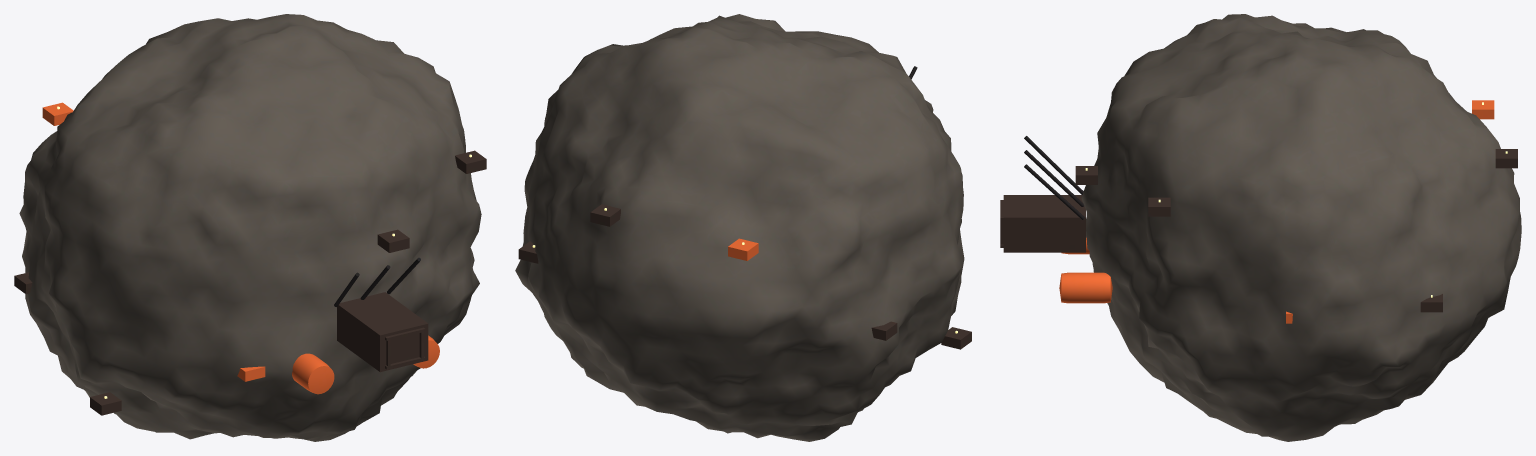
Rendered from game-shackle.glb.
The picture shows the model from 3 angles, left to right: view 1: azimuth 30°, elevation 25°; view 2: azimuth 150°, elevation 25°; view 3: azimuth 270°, elevation 25°; orthographic projection. The views are drawn at different scales.
Parts seen in each view (by area): view 1: shackle; view 2: shackle; view 3: shackle.
Part boxes in pixels (left/top/right/bottom): shackle: left=14, top=14, right=486, bottom=441; shackle: left=515, top=14, right=971, bottom=441; shackle: left=1000, top=14, right=1521, bottom=441.
Bounding box in the file's own units: 952 × 845 × 1075.
3 materials, 1 textured.
